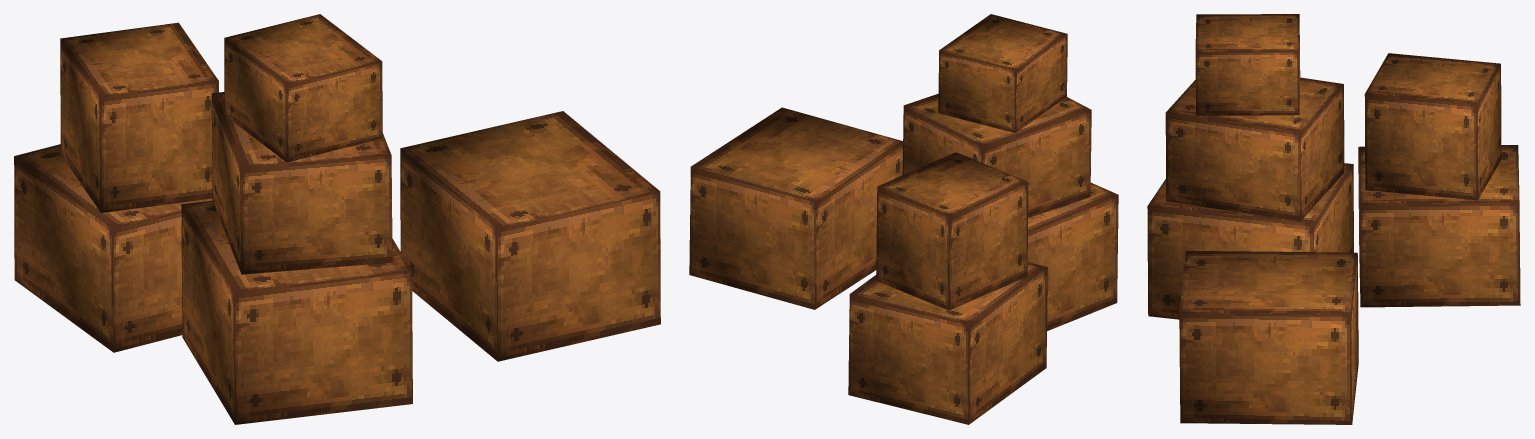
The model's file is deadminecargoboxes.obj.
3 renders of one model, left to right at view 1: azimuth 30°, elevation 25°; view 2: azimuth 150°, elevation 25°; view 3: azimuth 270°, elevation 25°, orthographic. The views are drawn at different scales.
Bounding box in the file's own units: 2.57 × 1.78 × 2.26.
1 material, 1 textured.
